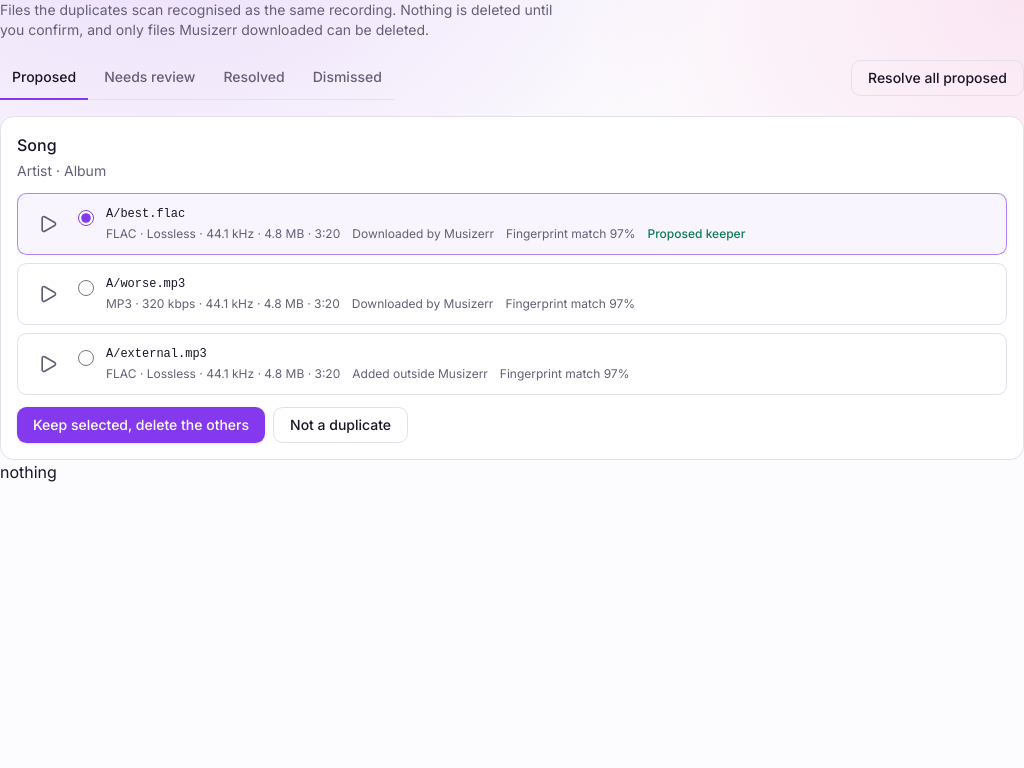
Scenario: Administration › Duplicates › keeping another file changes what would be deleted
What coordinates should you click on to do the following:
click the 2nd radio button
I would click on:
 (86, 288)
Its box is [78,280,94,296].
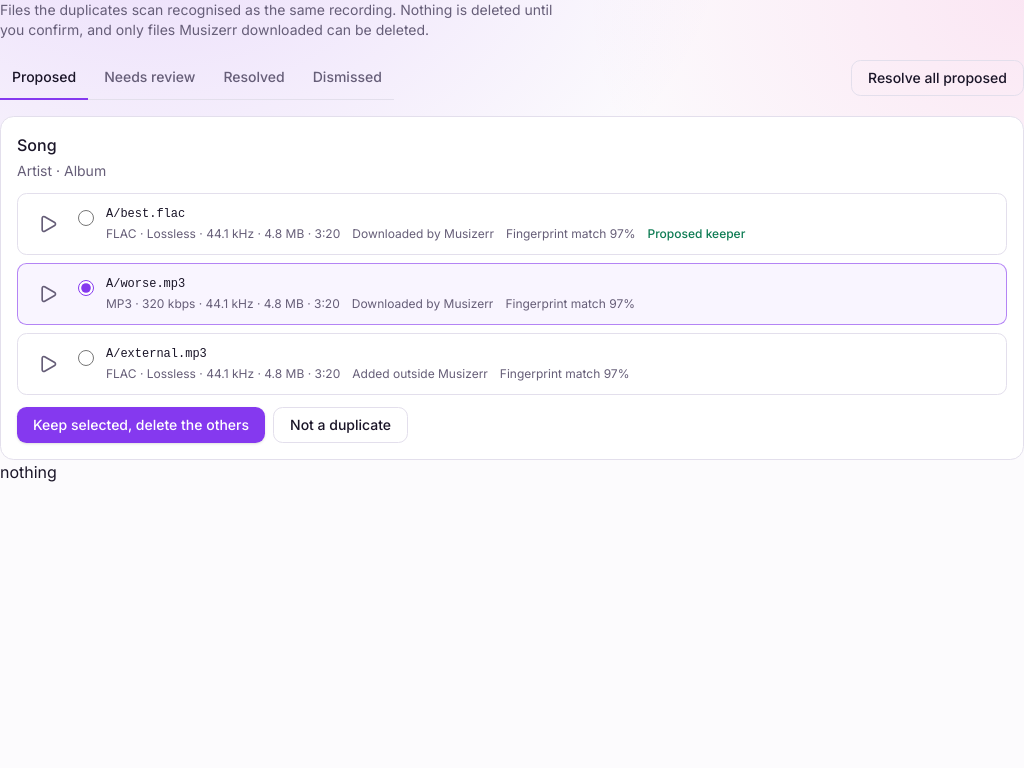
What coordinates should you click on to do the following:
click the button "Keep selected, delete the others"
I would click on:
 (141, 425)
Its box is [17,407,265,443].
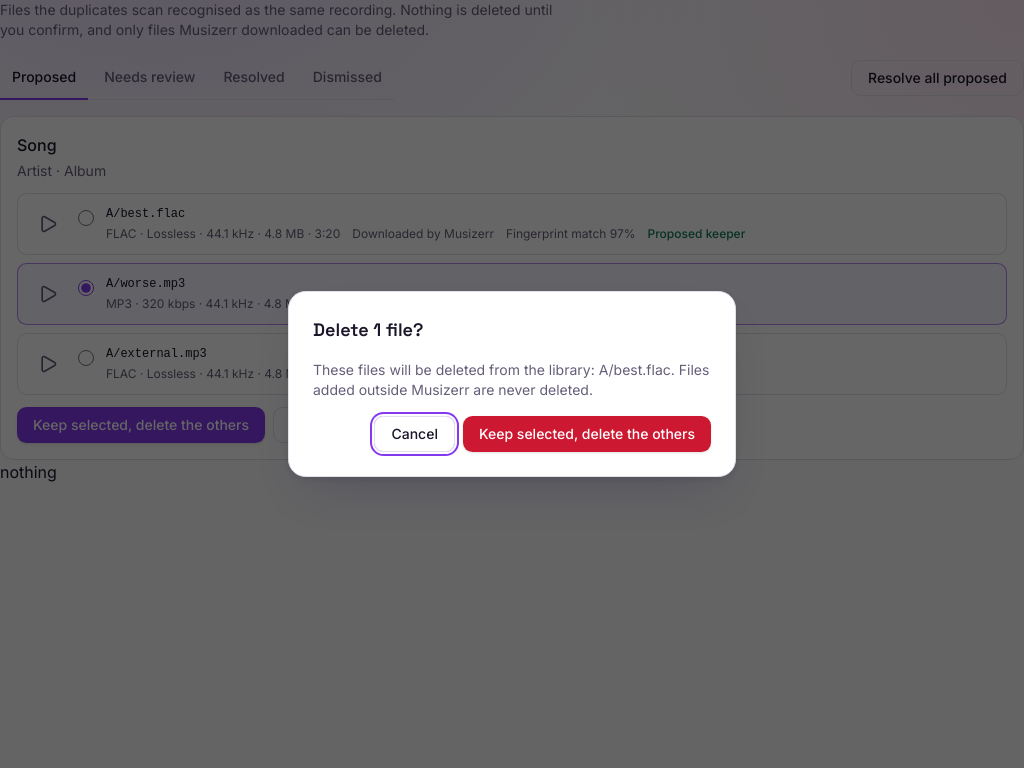
Expected: the dialog shows "A/best.flac", [313,361,709,398]
